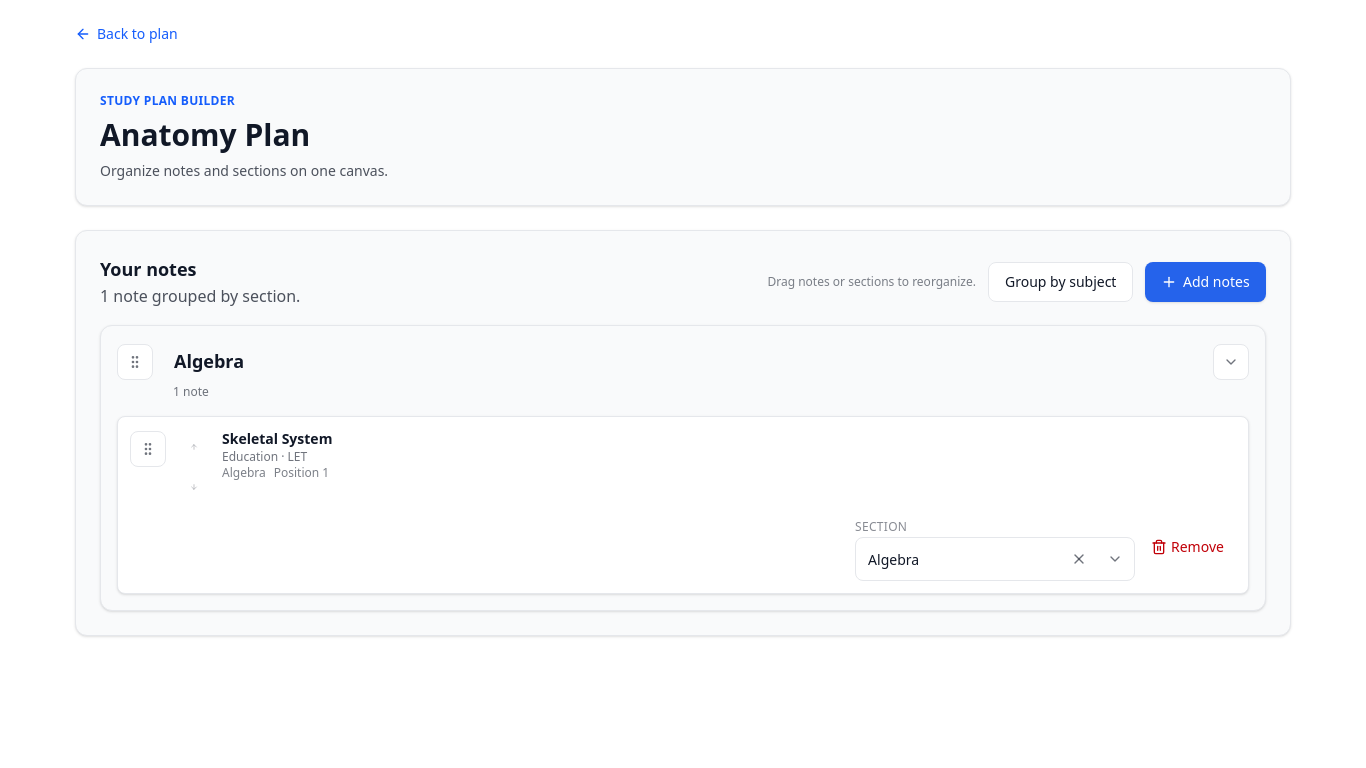
Test: StudyPlanBuilderPageClient › rejects the reserved section name Not in a section before writing
Replace the text in the field named "Section name Algebra" with "Not in a section" at (683, 361), box top-left (165, 342), bottom-right (1201, 380)
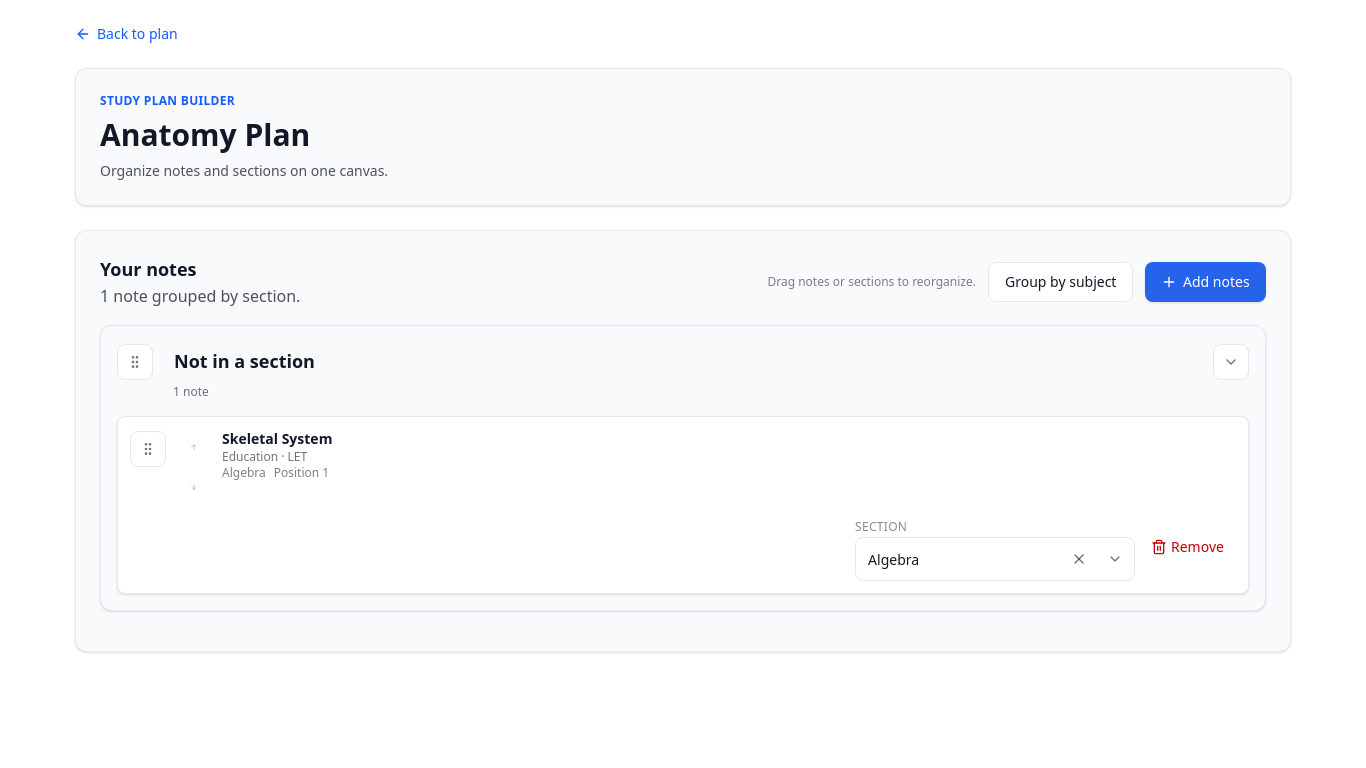
Leave the field named "Section name Algebra", box top-left (165, 342), bottom-right (1201, 380)
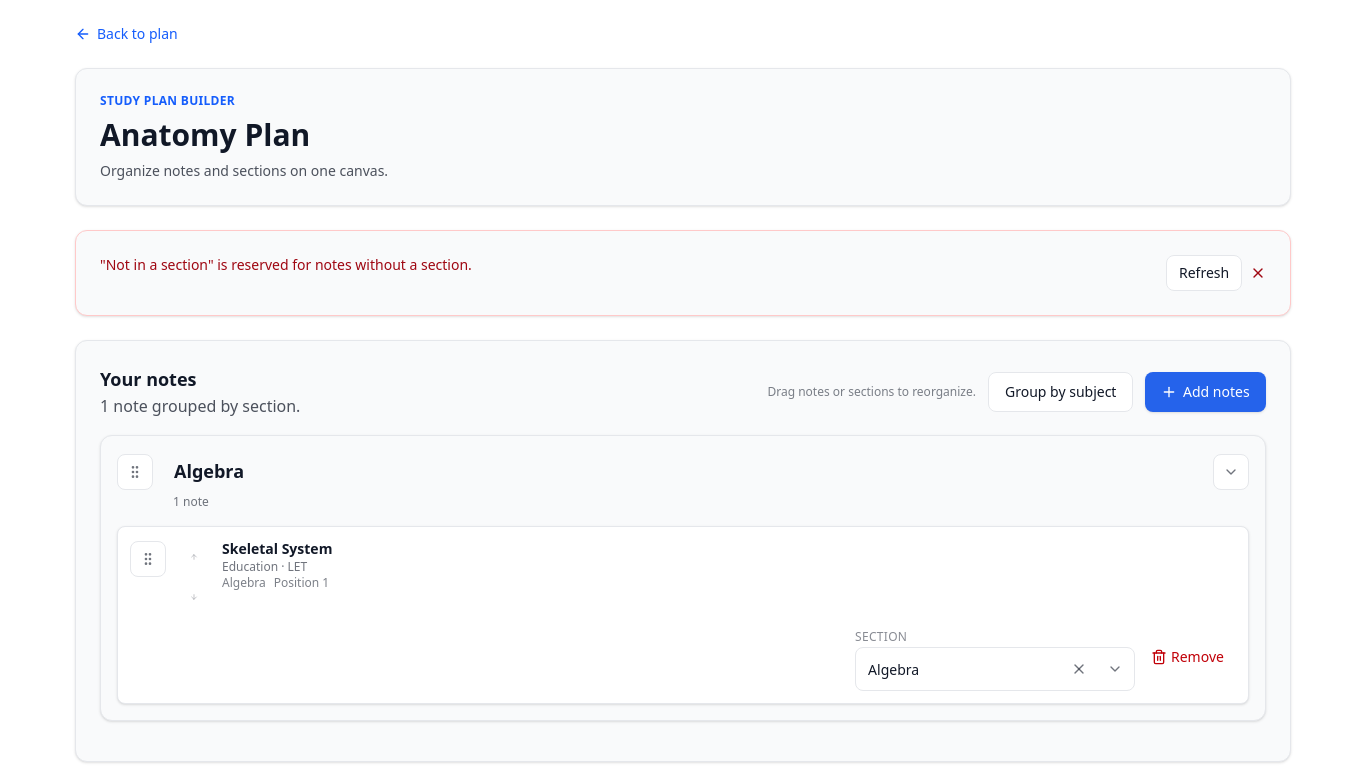
Expected: the text "\"Not in a section\" is reserved for notes without a section." is shown, top-left (100, 255), bottom-right (472, 275)
Expected: the field named "Section name Algebra" holds "Algebra", top-left (165, 452), bottom-right (1201, 490)
